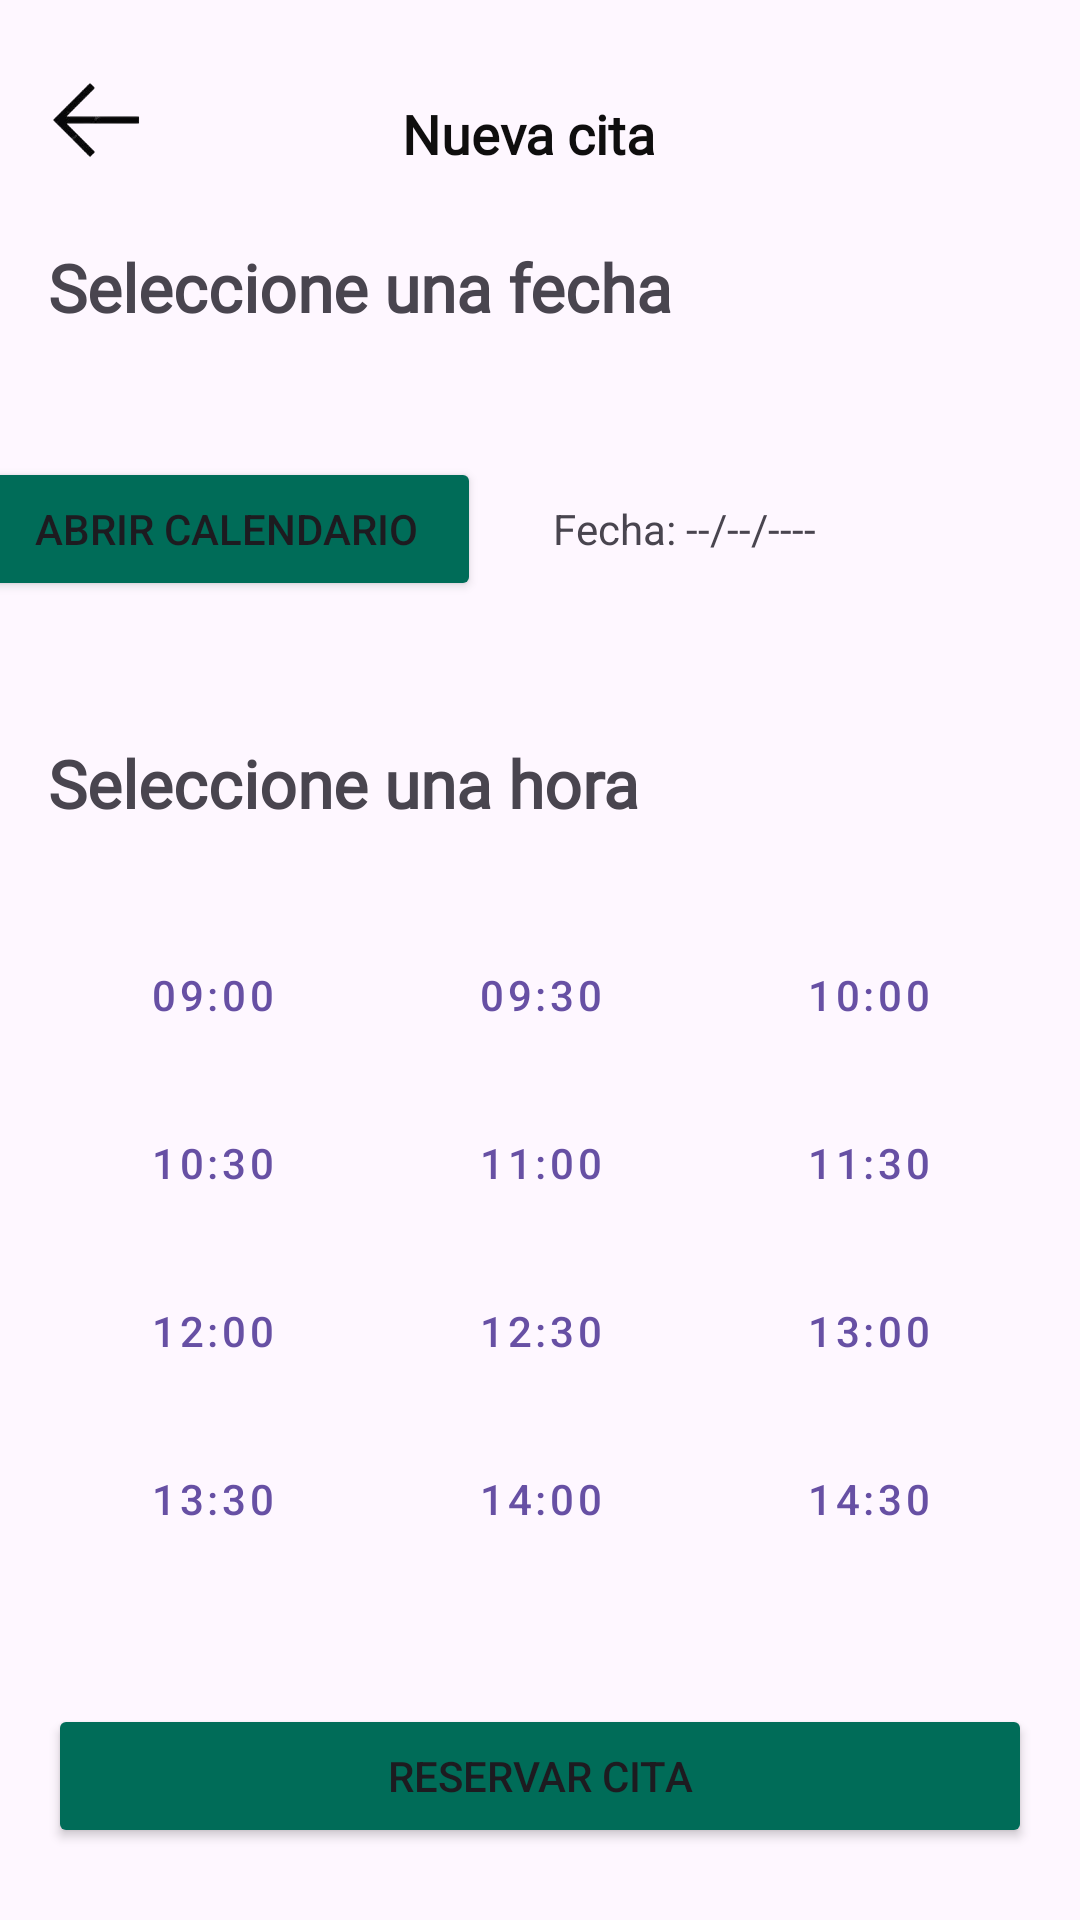

Icons on this 1080×1920 Android screen, each with its box as {"left": x1, "top": y1, "right": x2, "bottom": y2}:
Botón para regresar a la pantalla anterior: {"left": 53, "top": 83, "right": 139, "bottom": 157}
